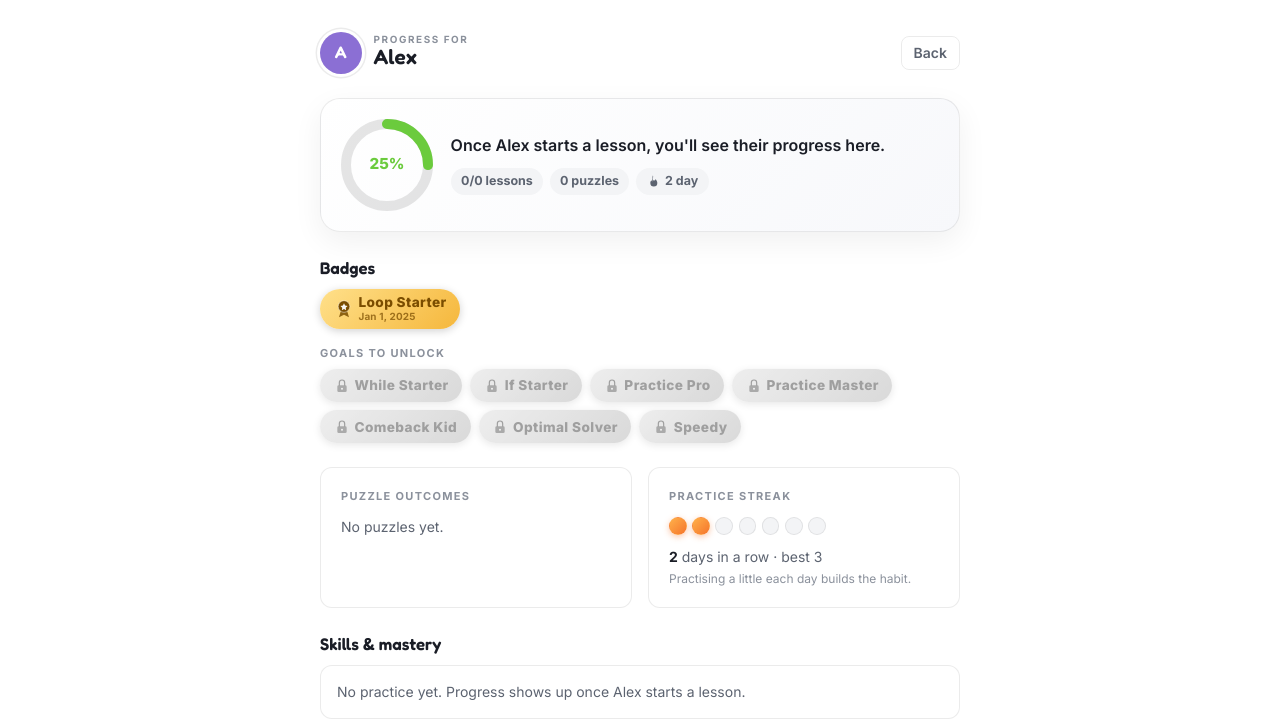
Test case: ParentPage — badge chips (Task 8) › clicking × closes the detail card
This screenshot has width=1280, height=720.
Click the button "Loop Starter Jan 1, 2025". click: (390, 309)
box: [320,289,460,329]
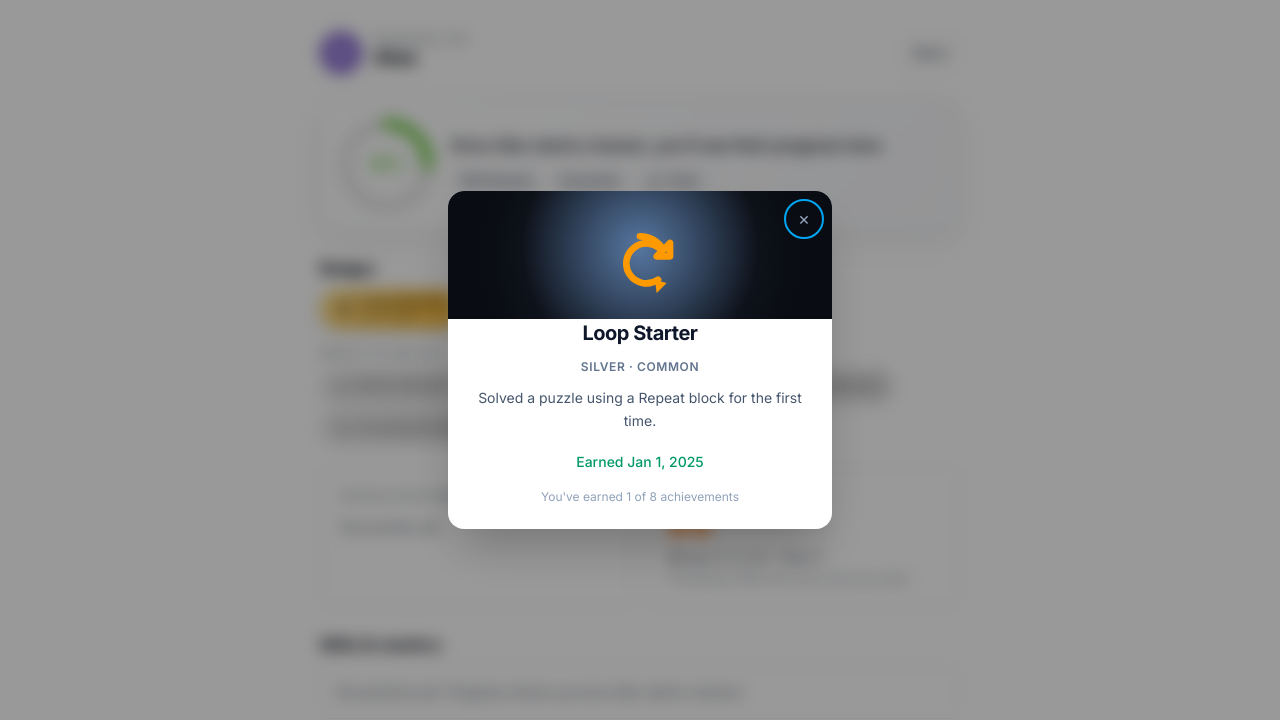
Click the button named "close". click: (804, 219)
box: [788,203,820,235]
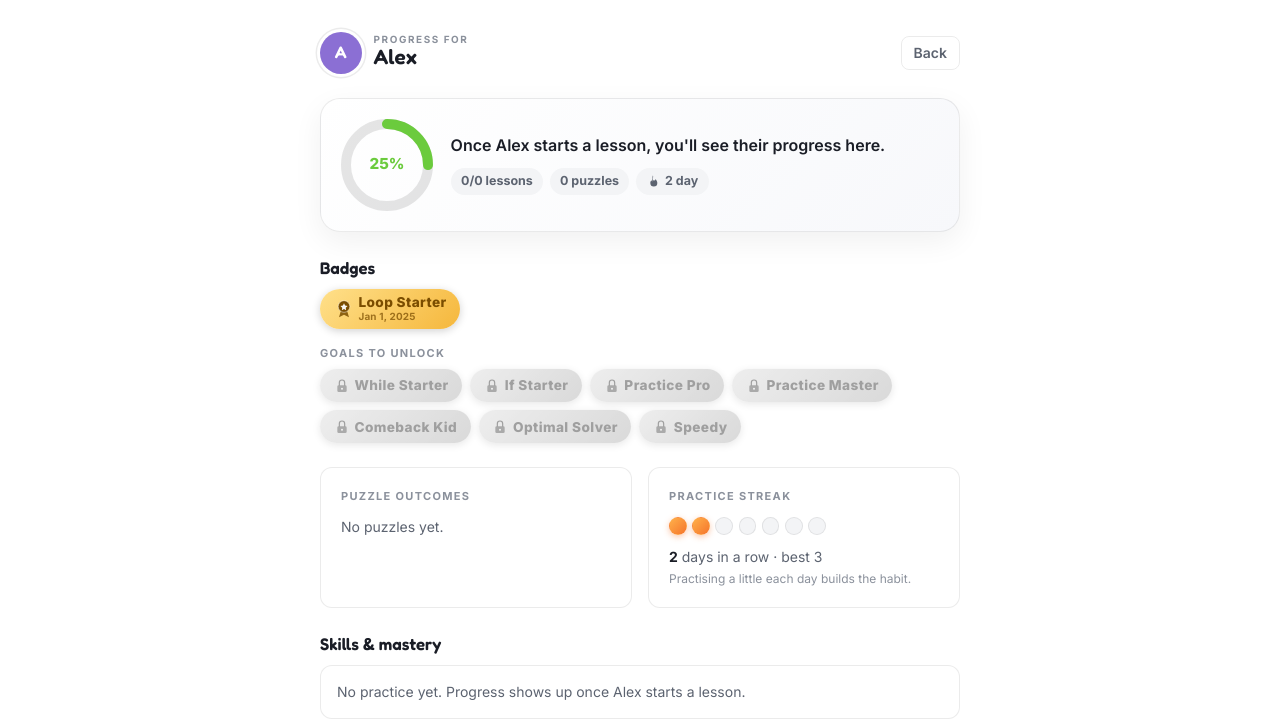
expect the dialog is gone: met
